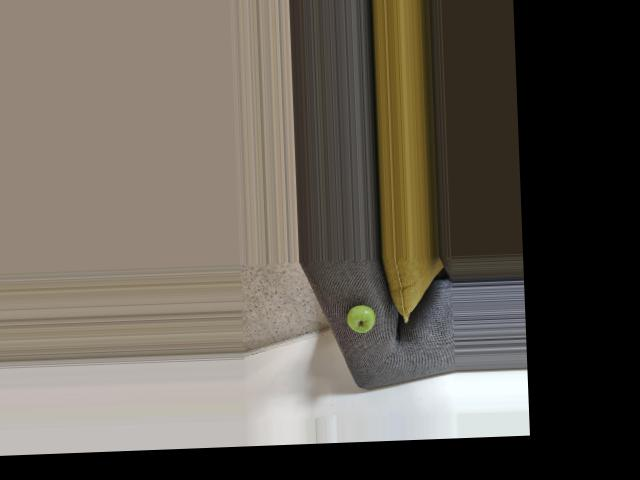apple: (346, 301, 377, 334)
